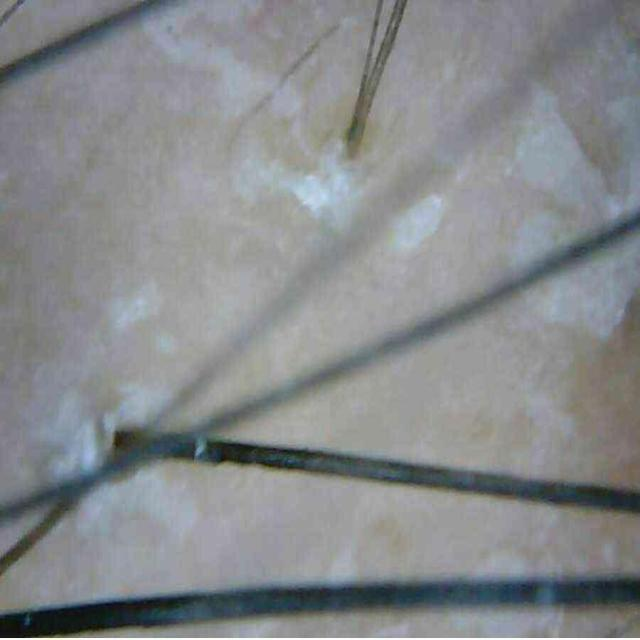d: (19, 377, 173, 485), (520, 224, 640, 341), (516, 88, 604, 205), (509, 199, 639, 267), (279, 140, 361, 235), (391, 194, 444, 252)
ds: (111, 298, 149, 330)
